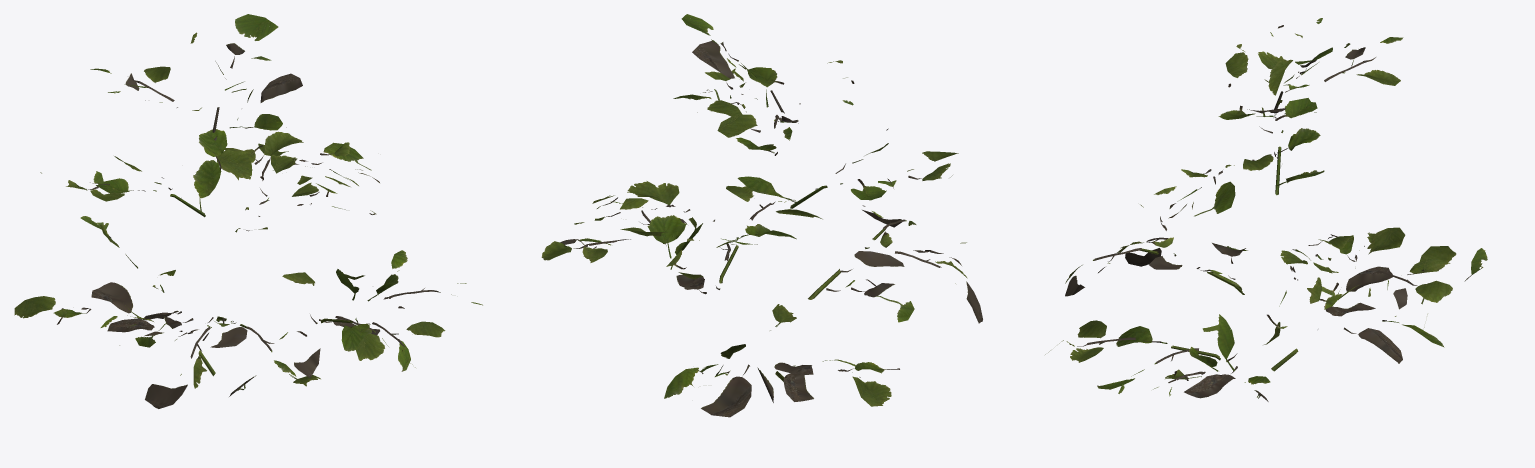
File: SM_BlackAlder_Seedling_02_PP_LOD1.gltf
3 views of the same model, side by side, from view 1: azimuth 30°, elevation 25°; view 2: azimuth 150°, elevation 25°; view 3: azimuth 270°, elevation 25° (orthographic). The views are drawn at different scales.
Parts seen in each view (by area): view 1: SM_BlackAlder_Seedling_02_PP; view 2: SM_BlackAlder_Seedling_02_PP; view 3: SM_BlackAlder_Seedling_02_PP.
Boxes of the visible parts, x1,y1,x2,y2 form: SM_BlackAlder_Seedling_02_PP: (14,14,482,408); SM_BlackAlder_Seedling_02_PP: (541,14,982,417); SM_BlackAlder_Seedling_02_PP: (1045,18,1487,401).
Size of the model in its own units: 0.8521 by 0.8572 by 0.8974.
Materials: 1 (1 with a texture image).
